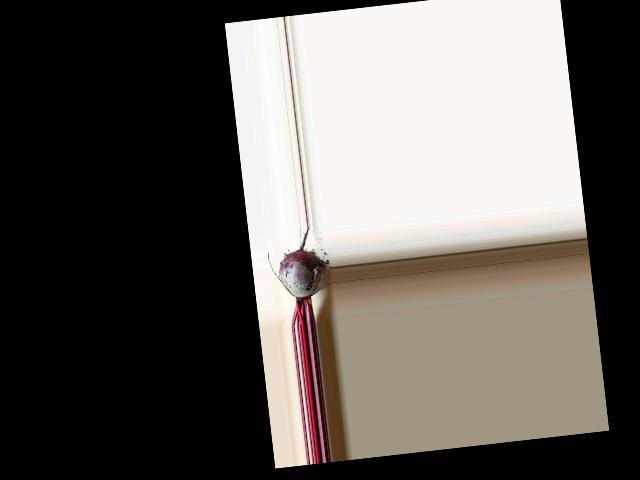beet: (265, 226, 331, 327)
